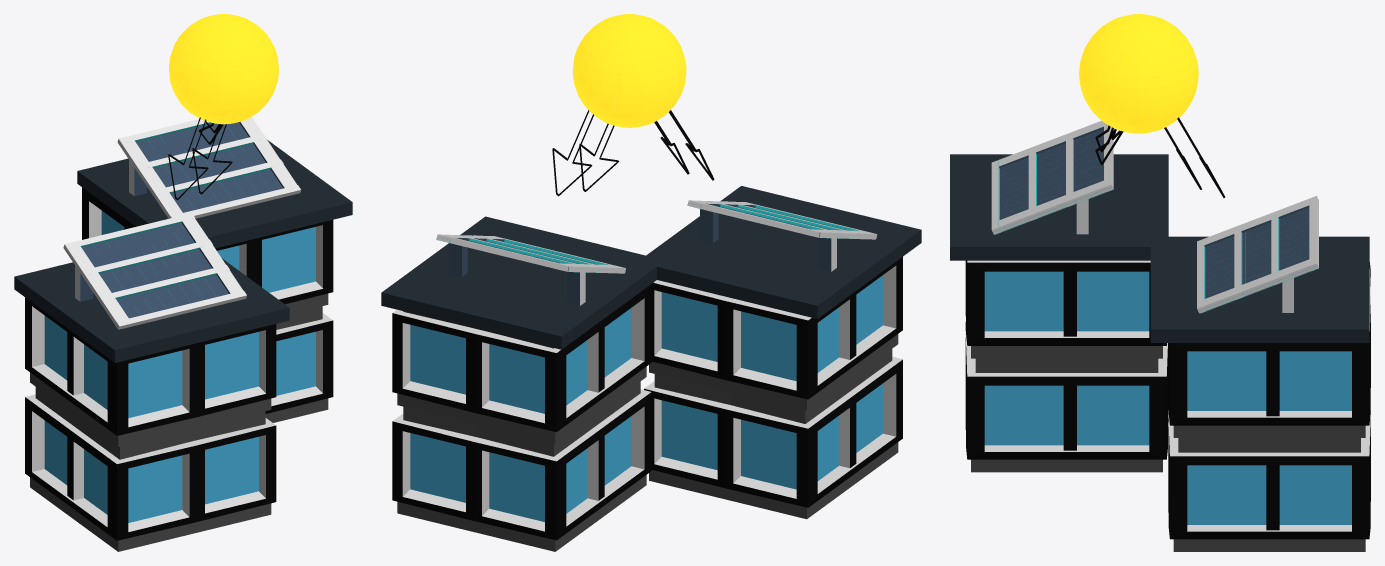
File: slrpanel.fbx
3 renders of one model, left to right at view 1: azimuth 30°, elevation 25°; view 2: azimuth 150°, elevation 25°; view 3: azimuth 270°, elevation 25°, orthographic. The views are drawn at different scales.
Parts seen in each view (by area): view 1: Cube, Sphere, Vert.002; view 2: Cube, Sphere, Vert.001, Vert.002; view 3: Cube, Sphere, Vert.001.
Boxes of the visible parts, x1,y1,x2,y2 form: Cube: (14, 117, 352, 551); Sphere: (169, 14, 278, 124); Vert.002: (168, 117, 232, 200); Cube: (381, 186, 921, 551); Sphere: (572, 14, 686, 127); Vert.001: (552, 110, 618, 196); Vert.002: (654, 110, 714, 180); Cube: (950, 121, 1370, 551); Sphere: (1079, 14, 1198, 133); Vert.001: (1164, 117, 1225, 197).
Size of the model in its own units: 1415 by 1768 by 1440.
